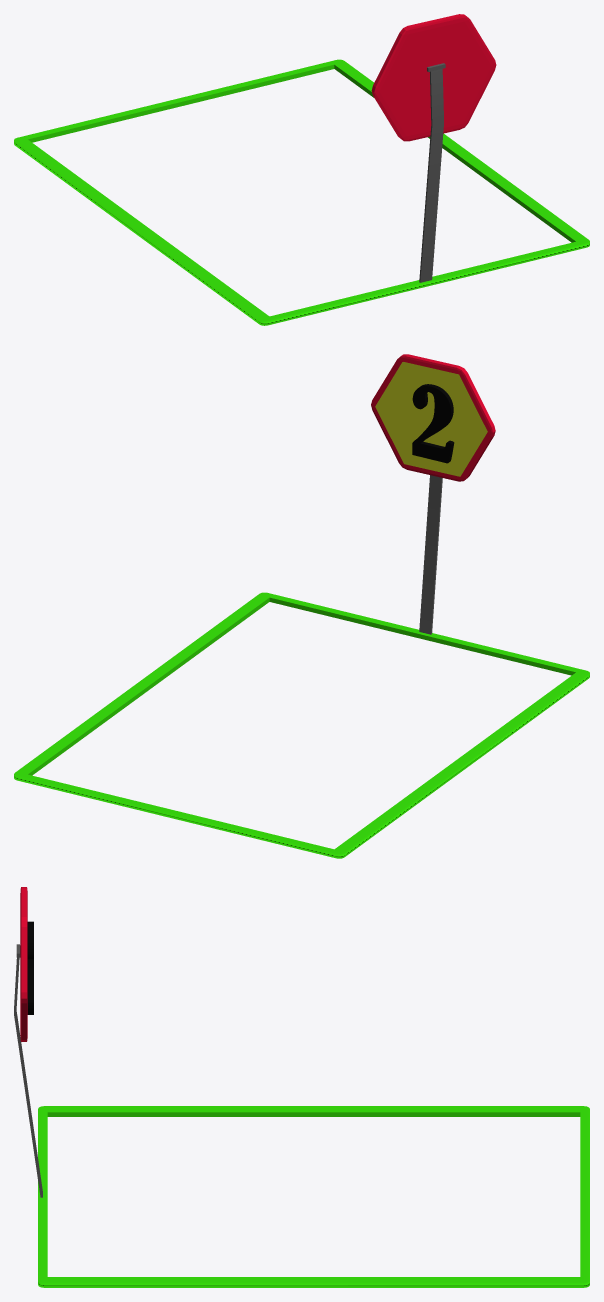
Rendered from Two Parking.fbx.
The picture shows the model from 3 angles, top to bottom: view 1: azimuth 30°, elevation 25°; view 2: azimuth 150°, elevation 25°; view 3: azimuth 270°, elevation 25°; orthographic projection. The views are drawn at different scales.
Parts seen in each view (by area): view 1: Cube, Cylinder; view 2: Cube, Cylinder.001, Cylinder, Text; view 3: Cube, Cylinder, Text.
Boxes of the visible parts, bbox=[...] form: Cube: bbox=[14, 59, 589, 325]; Cylinder: bbox=[371, 14, 496, 141]; Cube: bbox=[14, 475, 589, 858]; Cylinder.001: bbox=[375, 362, 487, 476]; Cylinder: bbox=[371, 354, 495, 481]; Text: bbox=[412, 384, 454, 463]; Cube: bbox=[14, 944, 589, 1287]; Cylinder: bbox=[20, 887, 27, 1041]; Text: bbox=[27, 921, 33, 1014].
Bounding box in the file's own units: 316 × 248 × 435.
